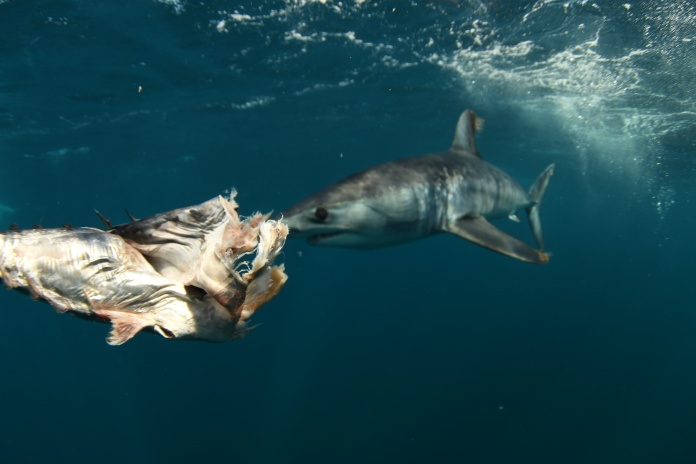Mako: (258, 98, 576, 284)
